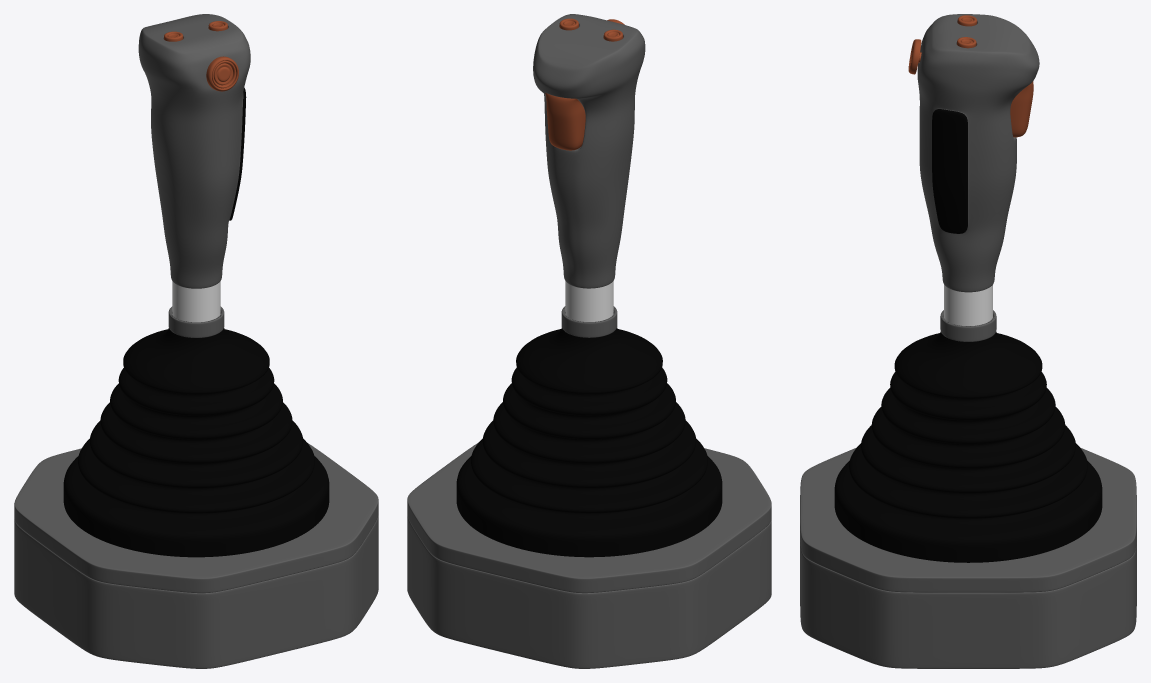
Rendered from Joystick.fbx.
3 views of the same model, side by side, from view 1: azimuth 30°, elevation 25°; view 2: azimuth 150°, elevation 25°; view 3: azimuth 270°, elevation 25° (orthographic).
Visible parts, largest first — view 1: Joystick.Rubber, Joystick.Base, Joystick.Stick.Handle, Joystick.Base.Top, Joystick.Stick.Chrome, Joystick.Rubber.Ring, Joystick.Button.Back; view 2: Joystick.Rubber, Joystick.Base, Joystick.Stick.Handle, Joystick.Base.Top, Joystick.Button.Front, Joystick.Stick.Chrome, Joystick.Rubber.Ring; view 3: Joystick.Rubber, Joystick.Base, Joystick.Stick.Handle, Joystick.Base.Top, Joystick.Stick.Chrome, Joystick.Rubber.Ring, Joystick.Button.Front.
Boxes of the visible parts, x1,y1,x2,y2 form: Joystick.Rubber: [63, 312, 329, 557]; Joystick.Base: [14, 515, 378, 668]; Joystick.Stick.Handle: [138, 14, 250, 288]; Joystick.Base.Top: [14, 443, 378, 593]; Joystick.Stick.Chrome: [172, 281, 220, 322]; Joystick.Rubber.Ring: [168, 306, 224, 337]; Joystick.Button.Back: [206, 56, 238, 91]; Joystick.Rubber: [456, 312, 722, 557]; Joystick.Base: [407, 516, 771, 668]; Joystick.Stick.Handle: [533, 14, 645, 288]; Joystick.Base.Top: [407, 443, 771, 593]; Joystick.Button.Front: [545, 93, 585, 150]; Joystick.Stick.Chrome: [565, 281, 613, 321]; Joystick.Rubber.Ring: [561, 306, 617, 337]; Joystick.Rubber: [834, 322, 1102, 562]; Joystick.Base: [800, 534, 1136, 668]; Joystick.Stick.Handle: [917, 14, 1039, 292]; Joystick.Base.Top: [800, 447, 1136, 592]; Joystick.Stick.Chrome: [944, 284, 992, 326]; Joystick.Rubber.Ring: [940, 310, 996, 341]; Joystick.Button.Front: [1010, 81, 1033, 137].
Size of the model in its own units: 20 by 37.23 by 20.
